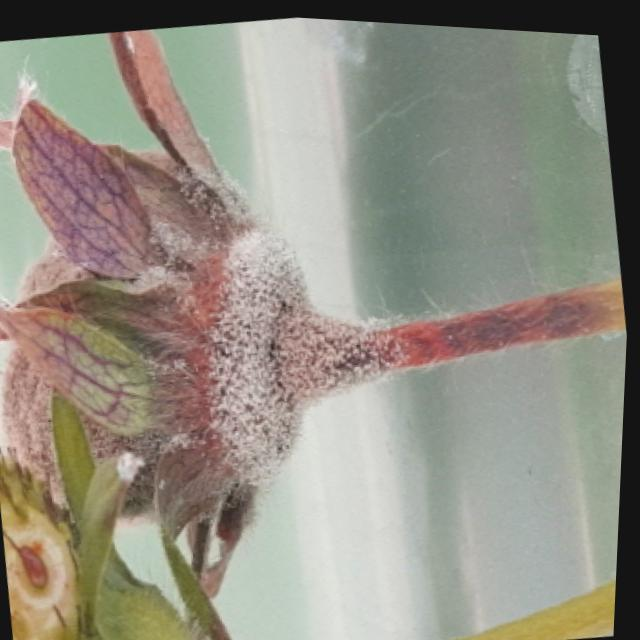Gray Mold: (0, 27, 467, 613)
